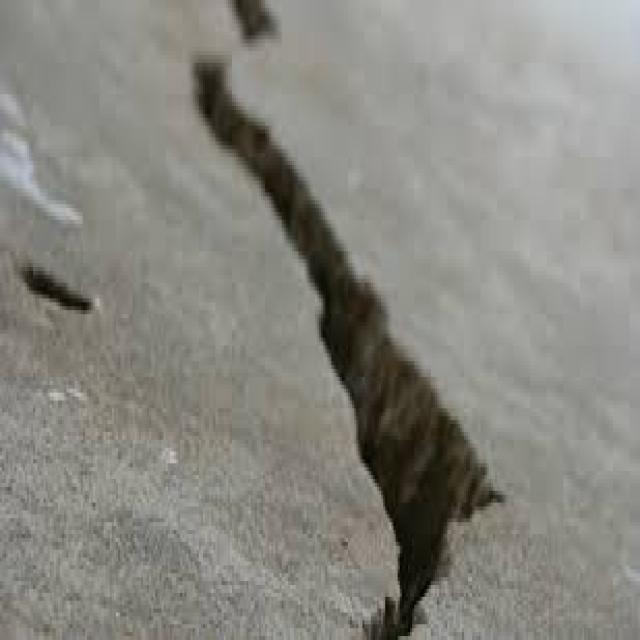Crack: (184, 0, 506, 636)
